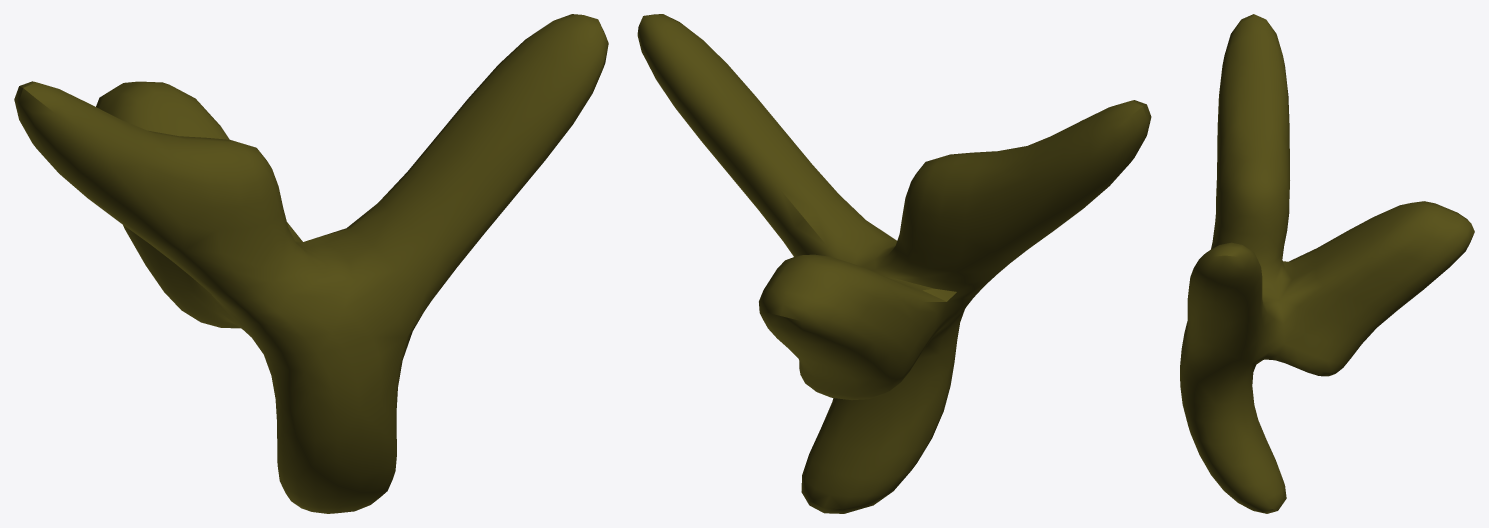
Rendered from Dead Tree 4.fbx.
3 views of the same model, side by side, from view 1: azimuth 30°, elevation 25°; view 2: azimuth 150°, elevation 25°; view 3: azimuth 270°, elevation 25° (orthographic). The views are drawn at different scales.
Visible parts, largest first — view 1: Cube; view 2: Cube; view 3: Cube.
Part boxes in pixels (x1=…): Cube: x1=14, y1=14, x2=608, y2=513; Cube: x1=637, y1=14, x2=1151, y2=513; Cube: x1=1180, y1=14, x2=1474, y2=513.
Size of the model in its own units: 285 by 246 by 173.
